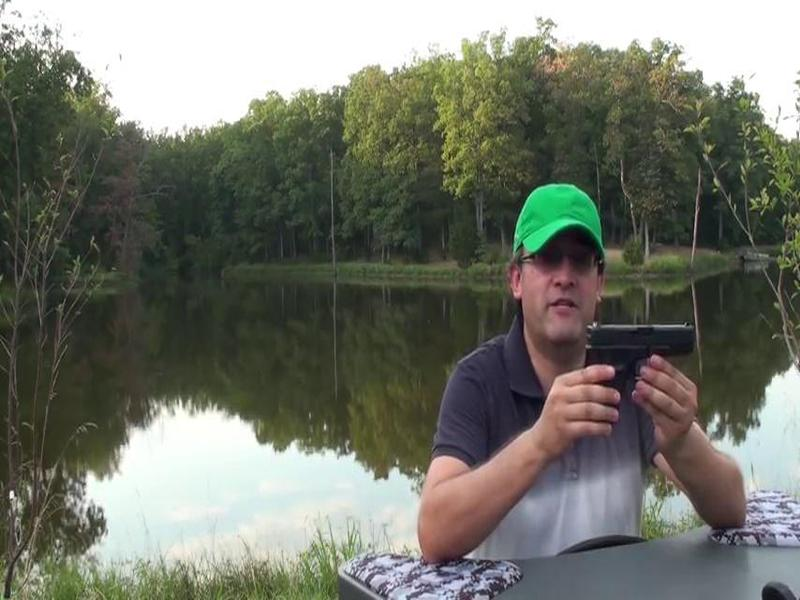Pistola: (587, 311, 705, 398)
